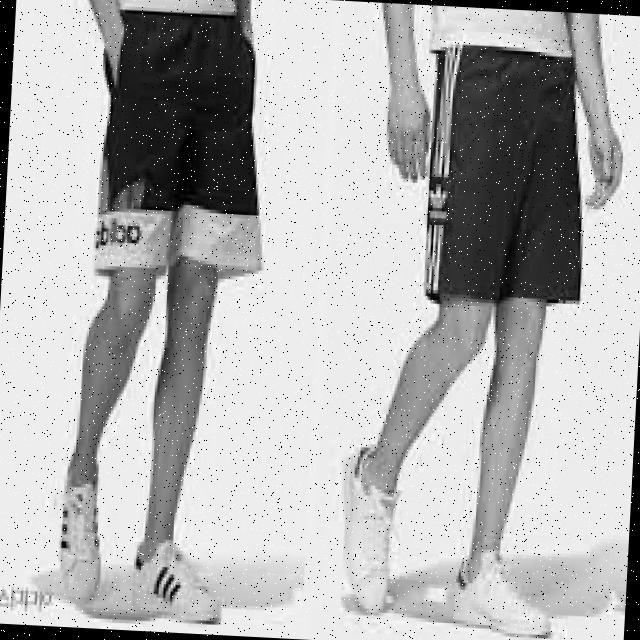Adidas: (410, 176, 454, 216)
